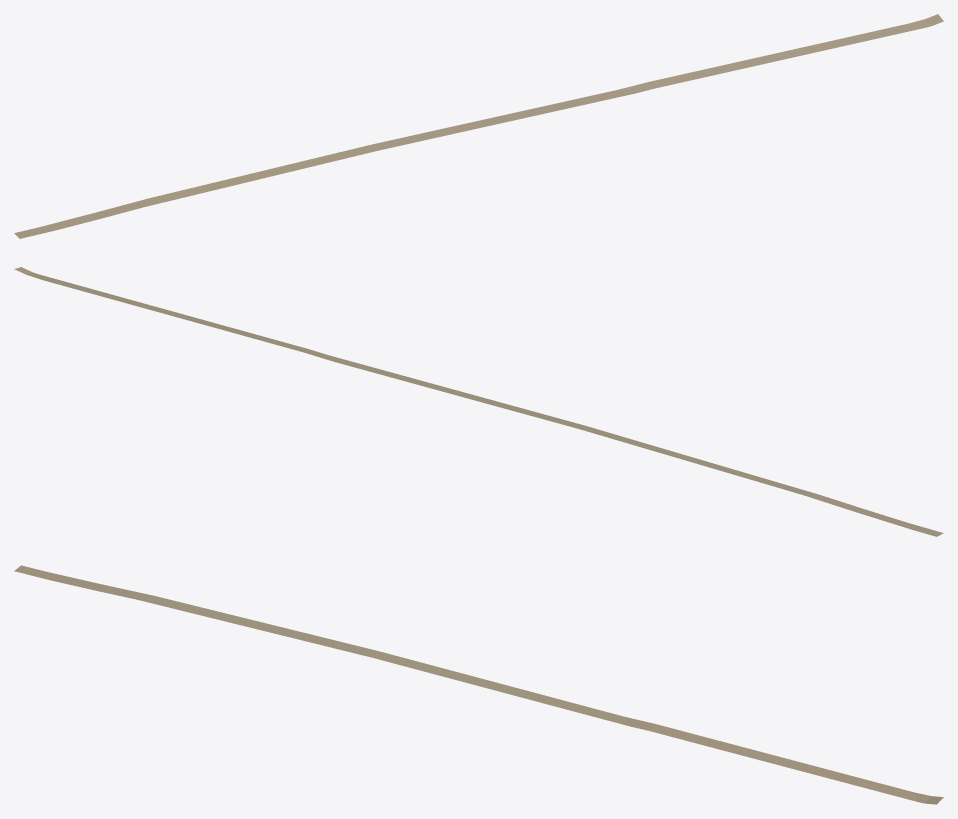
Rendered from farm_7_37_track.glb.
The picture shows the model from 3 angles, top to bottom: view 1: azimuth 30°, elevation 25°; view 2: azimuth 150°, elevation 25°; view 3: azimuth 330°, elevation 25°; orthographic projection. The views are drawn at different scales.
Visible parts, largest first — view 1: geometry_0; view 2: geometry_0; view 3: geometry_0.
Boxes of the visible parts, x1=… form: geometry_0: x1=14, y1=14, x2=943, y2=238; geometry_0: x1=14, y1=267, x2=943, y2=536; geometry_0: x1=14, y1=565, x2=943, y2=804.
Size of the model in its own units: 267 by 5.13 by 15.61.
